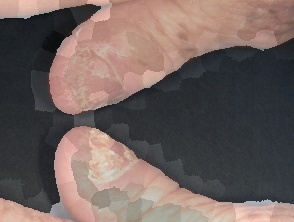Nail_psoriasis: (51, 38, 132, 113), (68, 127, 143, 192)
